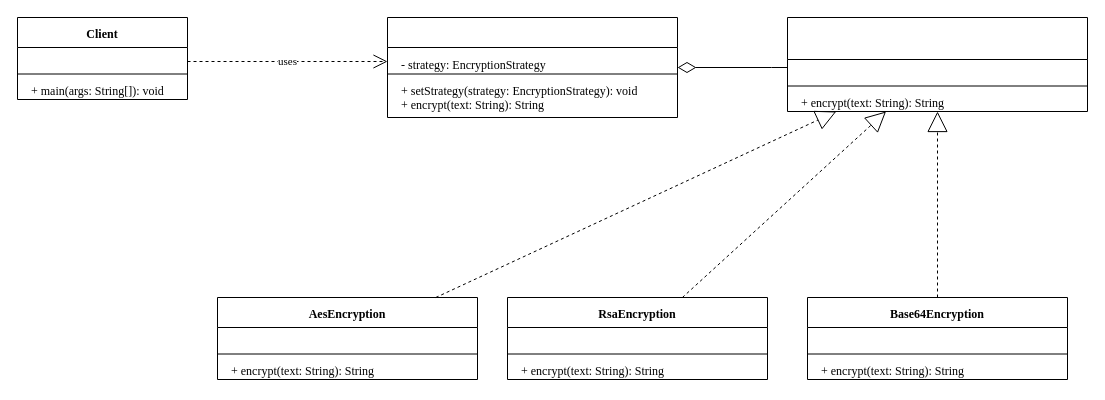
This 1105x400 diagram has some shape labels left out. Each missing label, with the box of its shape:
<<interface>> EncryptionStrategy: (786, 16, 1088, 112)
Encryptor: (386, 16, 678, 118)
